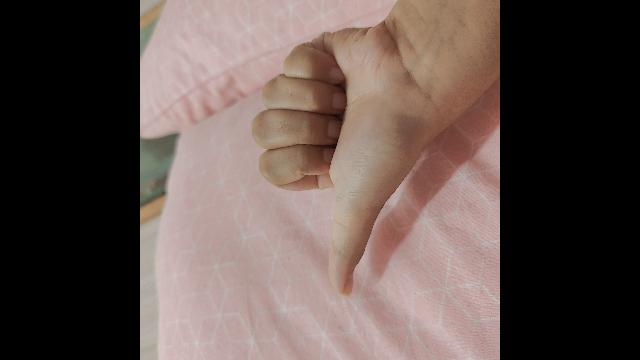shikhar: (252, 0, 494, 293)
